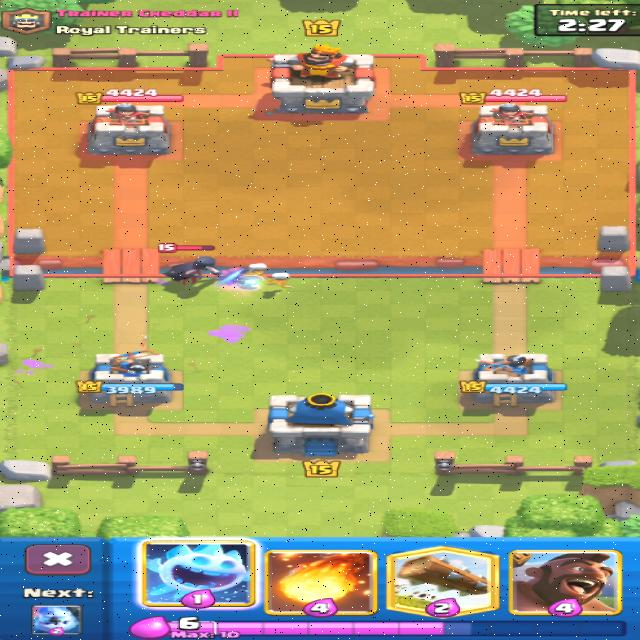Enemy-KingTower: (269, 43, 373, 113)
Enemy-NightWitch: (165, 255, 257, 290), (158, 242, 180, 255), (183, 245, 214, 252)
Enemy-PrincessTower: (89, 103, 170, 155), (473, 103, 552, 153)
Player-KingTower: (268, 393, 374, 458)
Player-PrincessTower: (76, 350, 183, 405), (461, 354, 565, 405)
Player-Skeleton: (266, 272, 293, 288), (247, 263, 266, 275)
